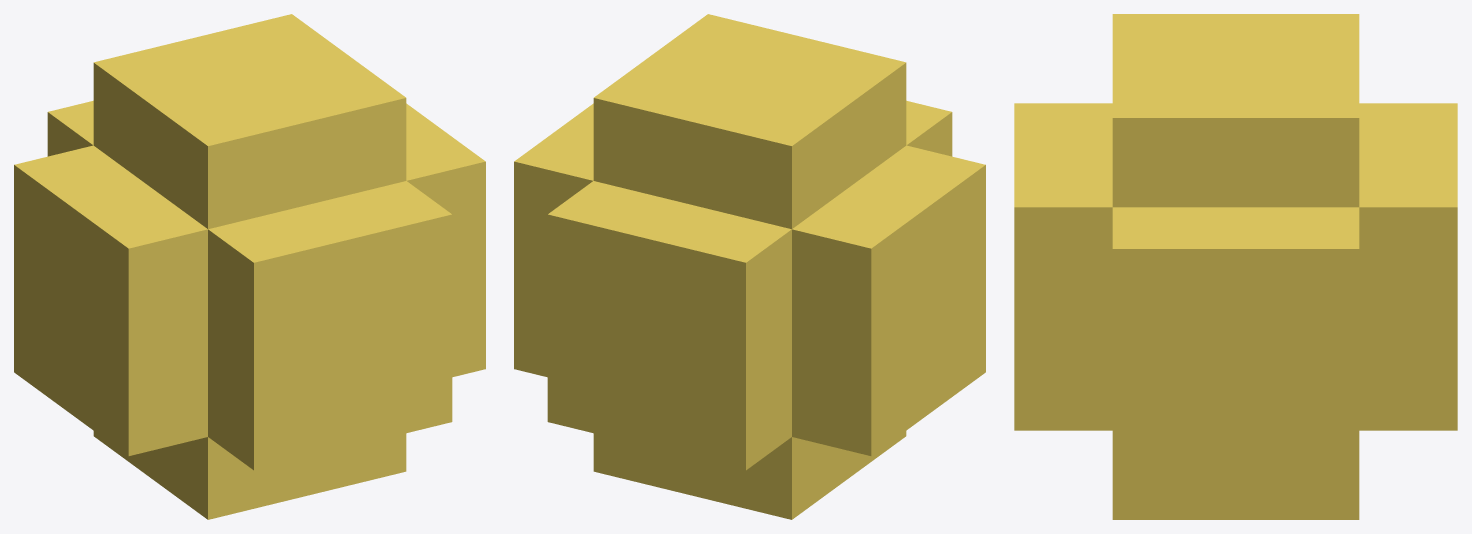
The model's file is foam_corner.glb.
The picture shows the model from 3 angles, left to right: view 1: azimuth 30°, elevation 25°; view 2: azimuth 150°, elevation 25°; view 3: azimuth 270°, elevation 25°; orthographic projection. The views are drawn at different scales.
Parts seen in each view (by area): view 1: foam_corner; view 2: foam_corner; view 3: foam_corner.
Boxes of the visible parts, x1,y1,x2,y2 form: foam_corner: (14,14,485,519); foam_corner: (514,14,985,519); foam_corner: (1014,14,1457,519).
Size of the model in its own units: 0.09 by 0.09 by 0.09.
